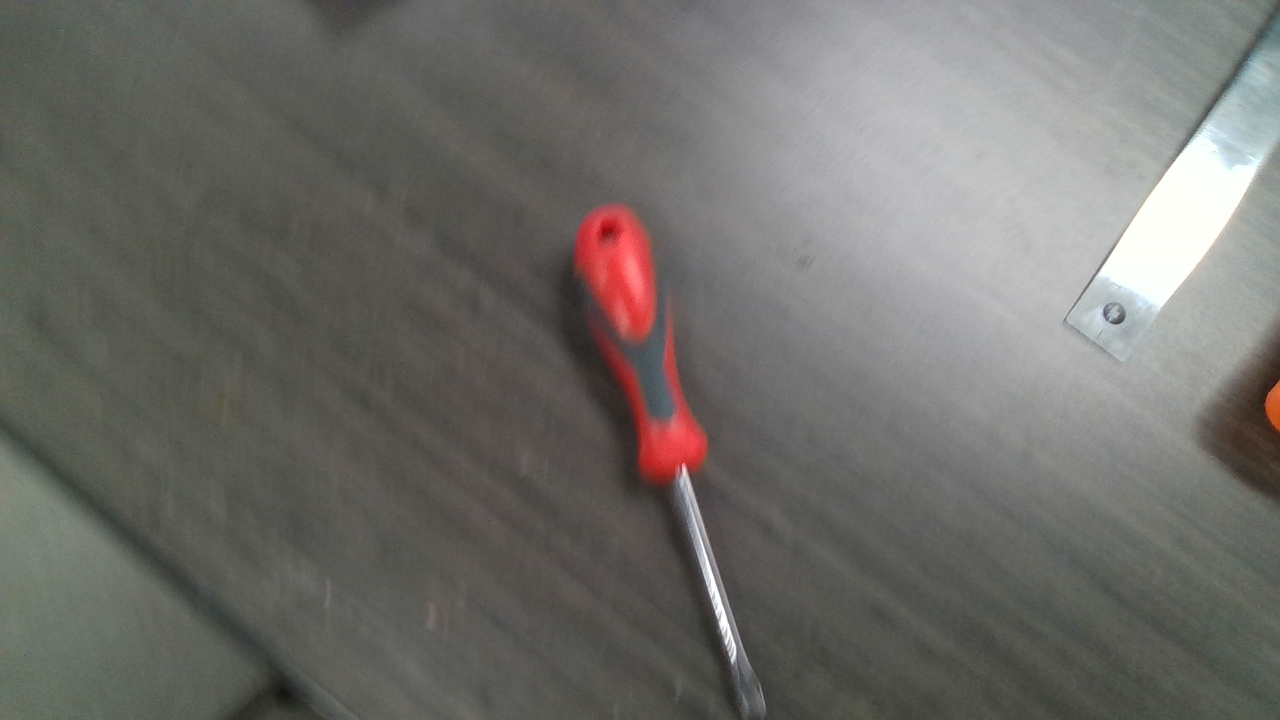Orange Hammer: (1256, 380, 1280, 429)
